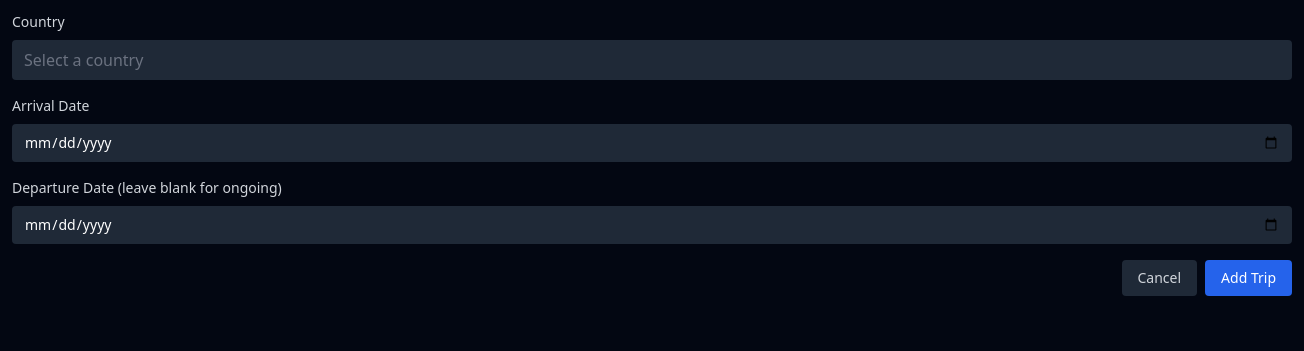
Scenario: TripForm › form submission - error cases › clears previous error on successful submission
The width and height of the screenshot is (1304, 351).
Note: First submit without country to trigger error
Step 1. Click the button "Add Trip" → (1249, 278), box [1205,260,1292,296]
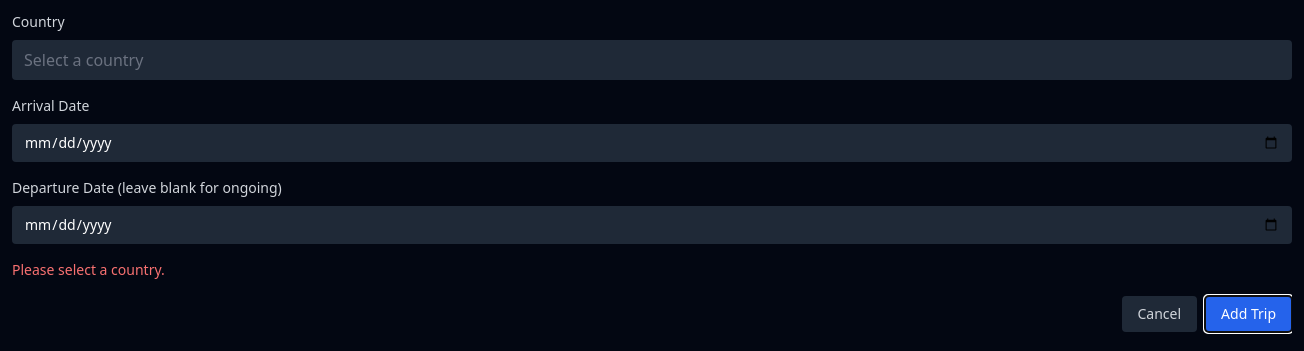
Expected: the text "Please select a country." is shown, [12,260,165,279]
Note: Now select country and submit successfully
Step 2. Type "France" into the field with placeholder "Select a country" → (652, 60), box [12,40,1292,80]
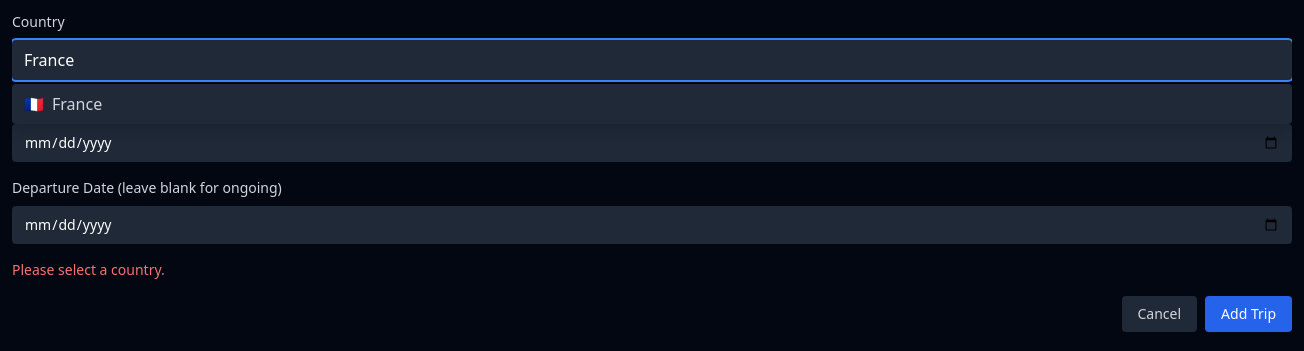
Step 3. Click the text "France" → (77, 104), box [52,92,102,116]
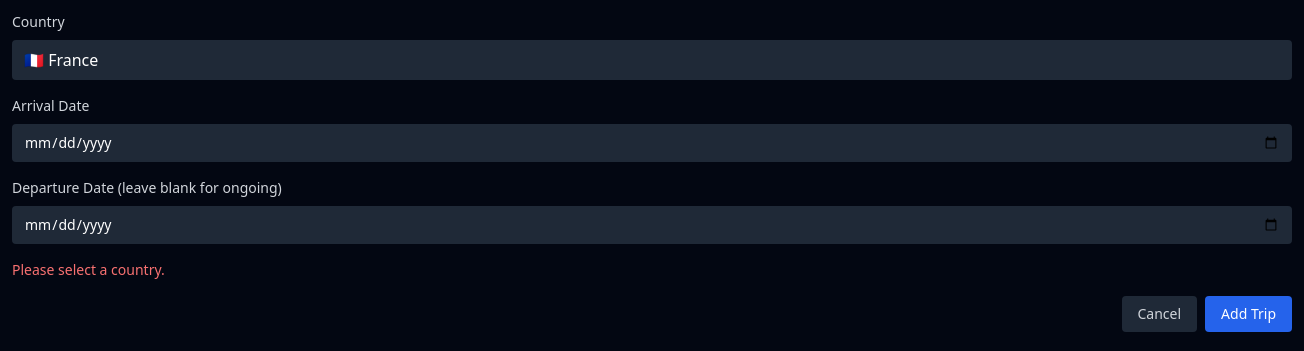
Step 4. Click the button "Add Trip" → (1249, 314), box [1205,296,1292,332]
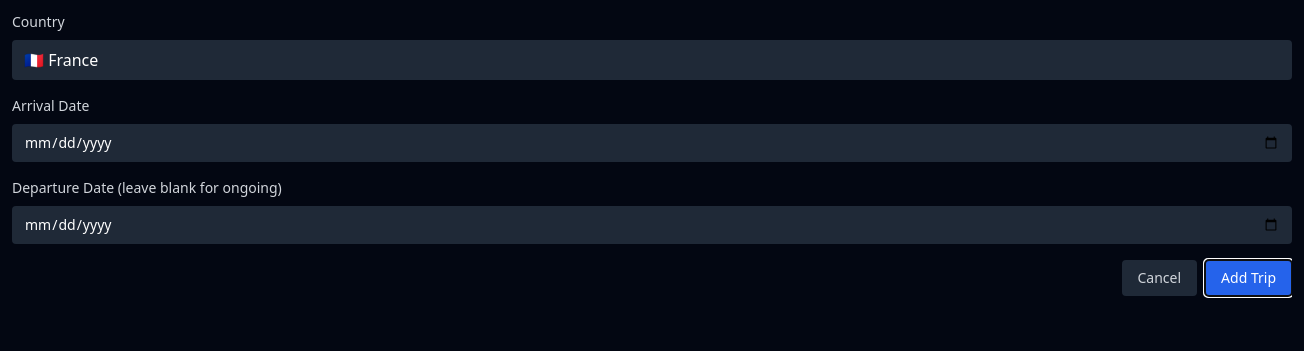
Expected: the text "Please select a country" is gone
